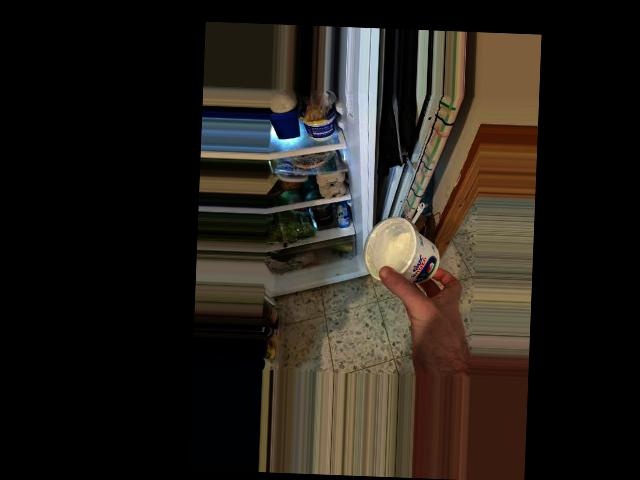cotage: (363, 213, 448, 294)
